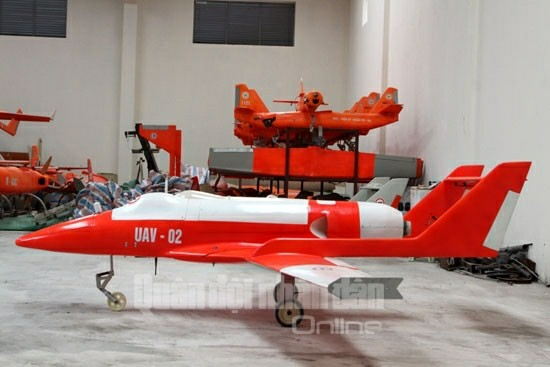maybay_khongnguoilai: (16, 170, 529, 326)
